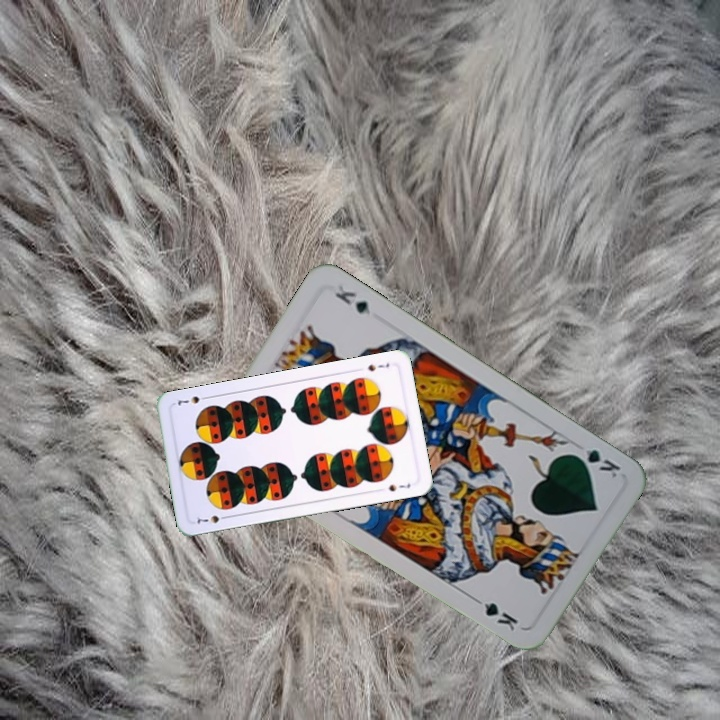GK: (567, 444, 623, 481)
S7: (193, 511, 231, 526), (364, 359, 392, 374)
